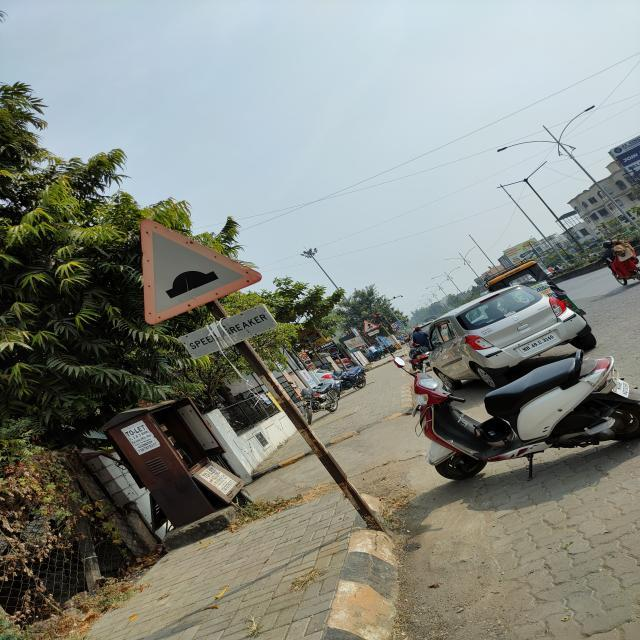hump or rough road: (133, 212, 268, 327)
